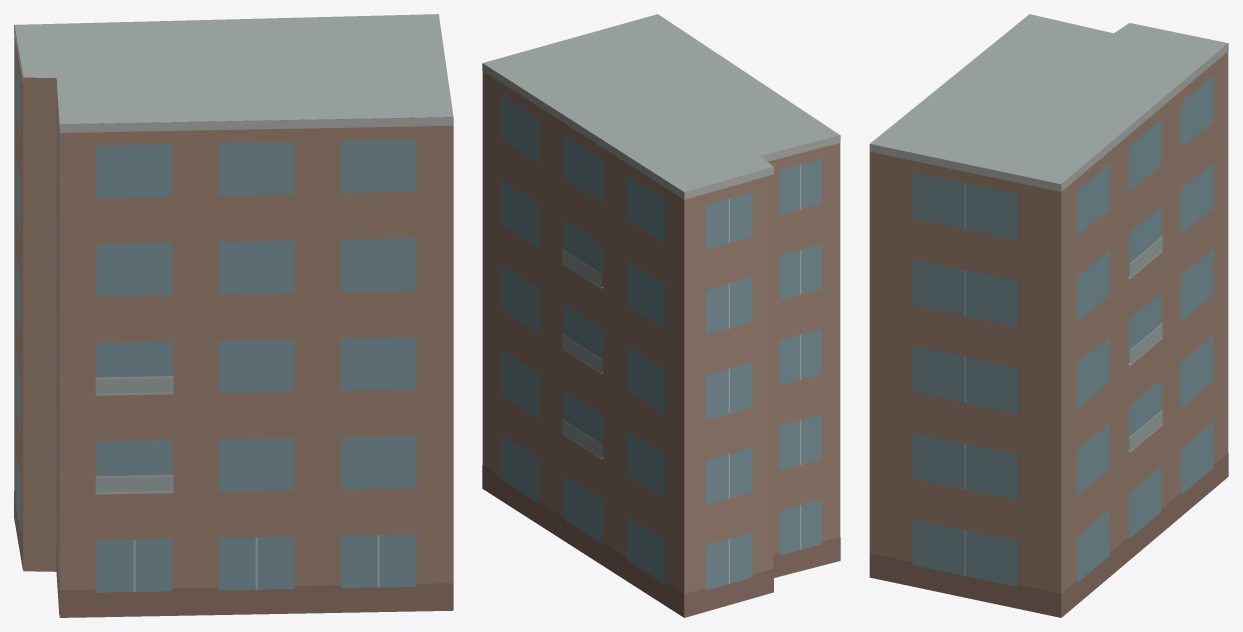
The model's file is survey-upis-32967304.glb.
3 renders of one model, left to right at view 1: azimuth 30°, elevation 25°; view 2: azimuth 150°, elevation 25°; view 3: azimuth 270°, elevation 25°, orthographic. The views are drawn at different scales.
Visible parts, largest first — view 1: survey-upis-32967304.tmp; view 2: survey-upis-32967304.tmp; view 3: survey-upis-32967304.tmp.
Boxes of the visible parts, x1,y1,x2,y2 form: survey-upis-32967304.tmp: [14, 14, 453, 617]; survey-upis-32967304.tmp: [482, 14, 840, 617]; survey-upis-32967304.tmp: [869, 14, 1228, 617].
Size of the model in its own units: 11.55 by 13.7 by 10.28.
